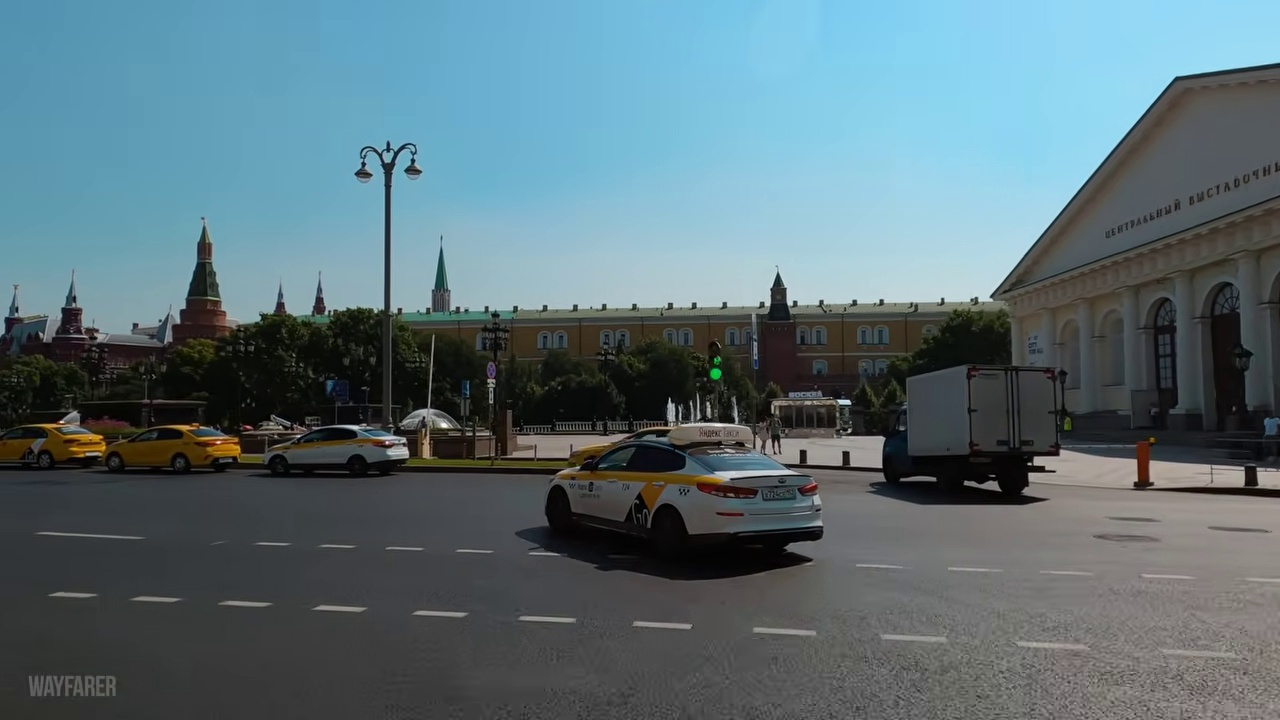apagada: (349, 141, 422, 190), (350, 162, 371, 188)
